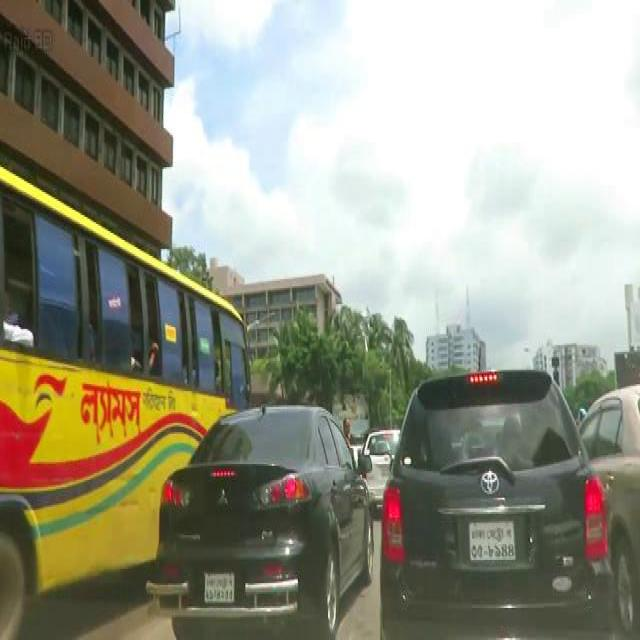5: (377, 364, 615, 638), (144, 400, 374, 635)
Truck: (0, 165, 251, 640)
